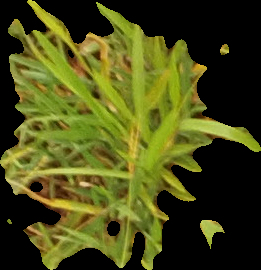grass: (1, 1, 259, 268)
